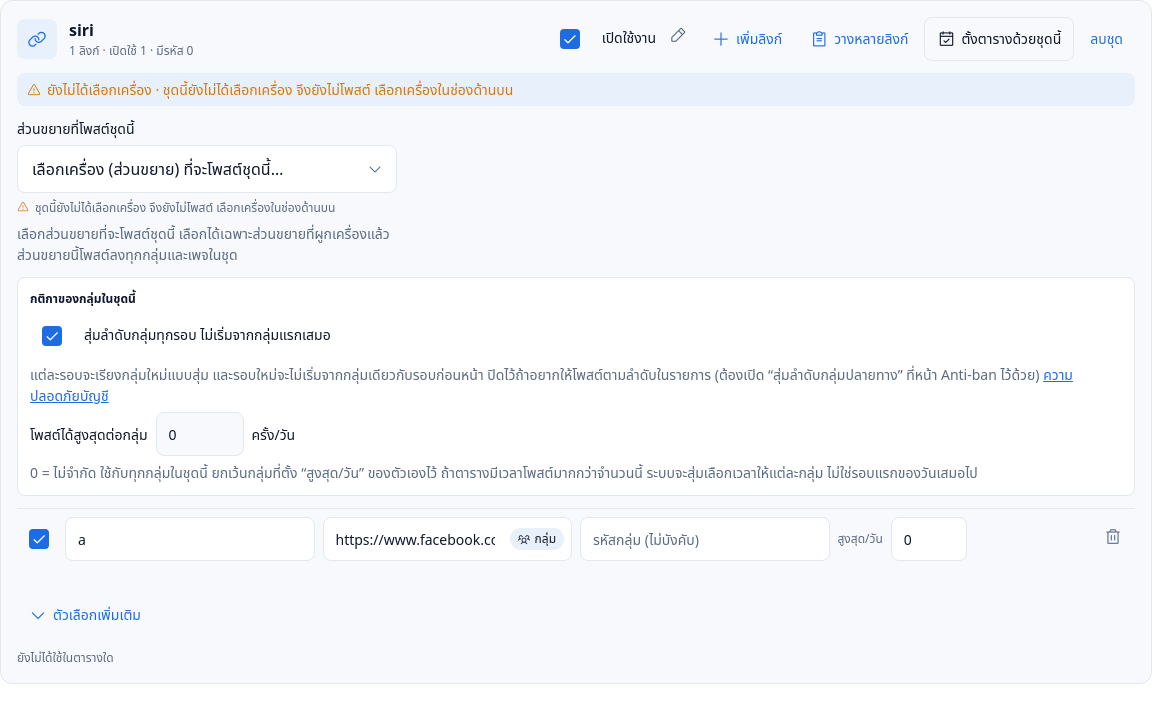
Test: LinkSetCardComponent: who posts the set › the rules for the groups of the set › saves the posts a day per group, brought into range
Replace the text in the number field labelled "โพสต์ได้สูงสุดต่อกลุ่ม ครั้ง/วัน" with "99" at (200, 434), box [156,412,244,456]
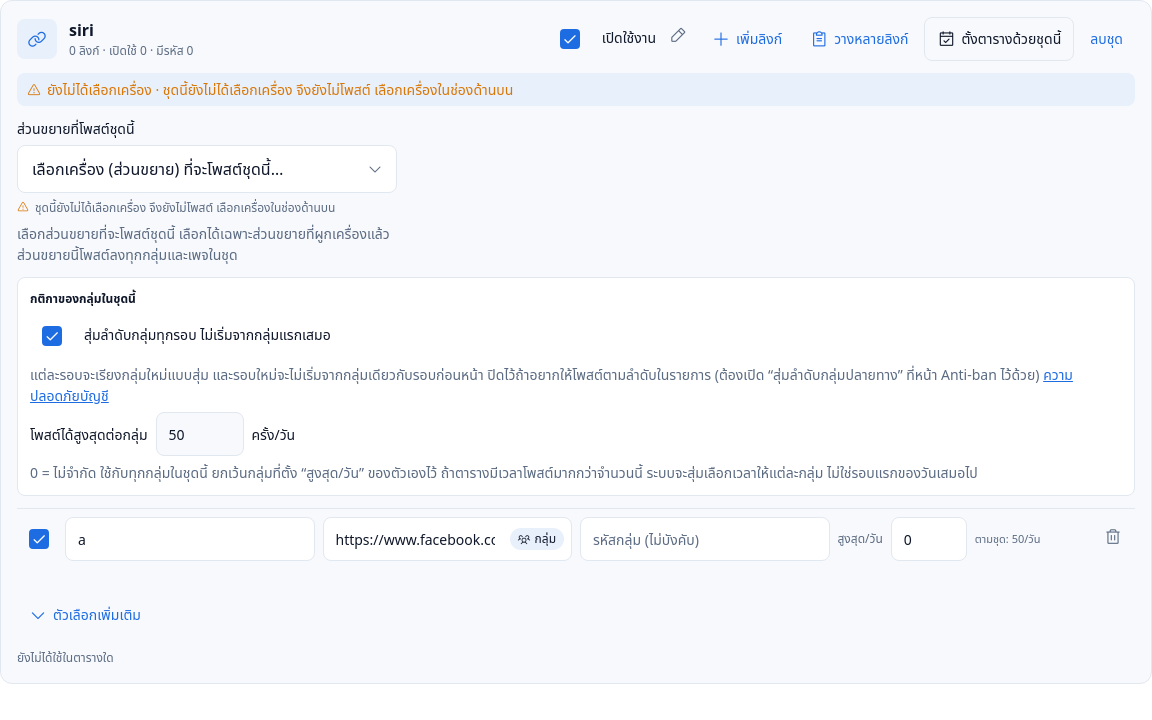
Expected: the number field labelled "โพสต์ได้สูงสุดต่อกลุ่ม ครั้ง/วัน" holds "50", [156,412,244,456]
